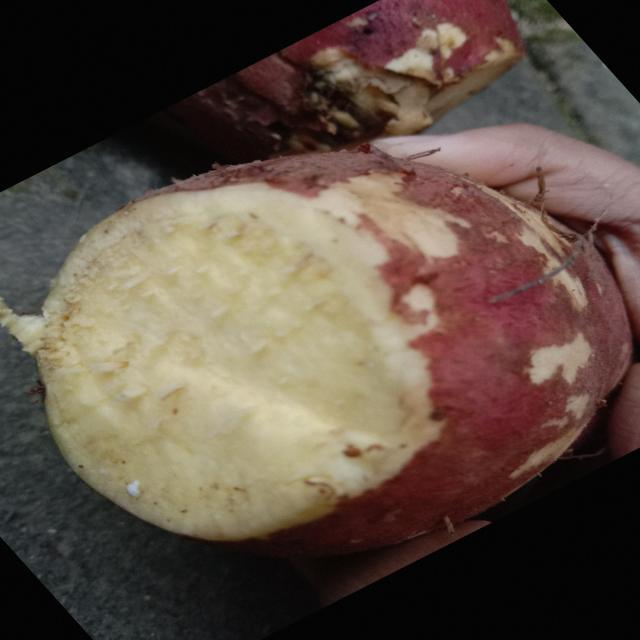Healthy Sweet Potato: (35, 185, 440, 540)
